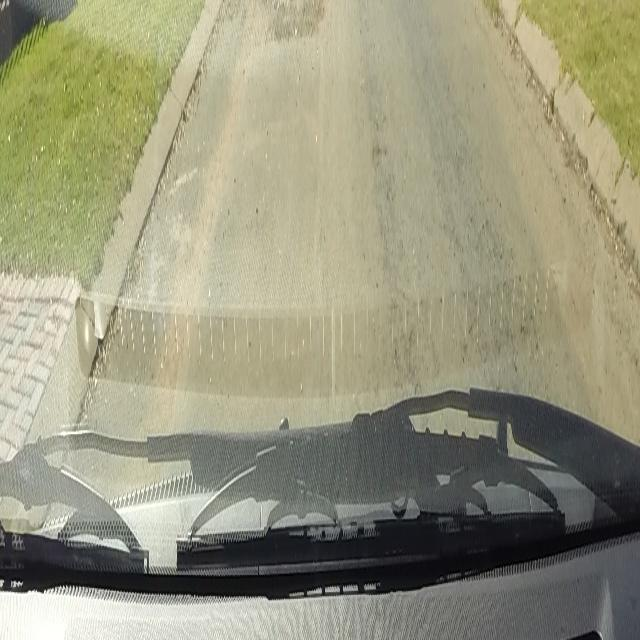pothole: (259, 0, 303, 20)
